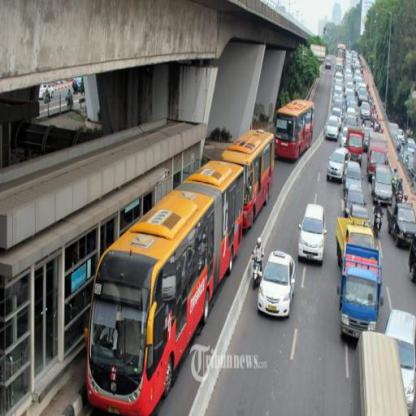bus: (85, 163, 246, 415), (223, 126, 278, 226), (276, 99, 316, 159)
car: (384, 309, 416, 401), (260, 254, 301, 320), (298, 201, 324, 269), (386, 200, 415, 245), (369, 164, 393, 203), (328, 147, 350, 180), (325, 115, 340, 140)
